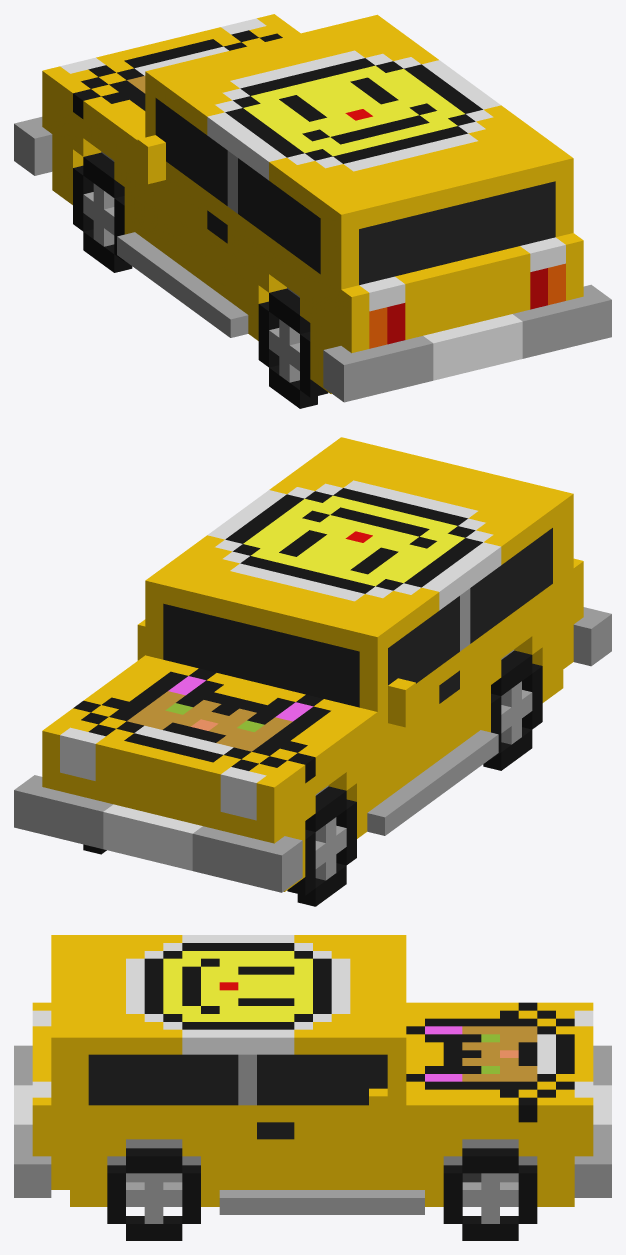
Rendered from car_18.glb.
3 views of the same model, one above another, from view 1: azimuth 30°, elevation 25°; view 2: azimuth 150°, elevation 25°; view 3: azimuth 270°, elevation 25° (orthographic). The views are drawn at different scales.
Visible parts, largest first — view 1: ObjObject; view 2: ObjObject; view 3: ObjObject.
Part boxes in pixels (x1,y1,x2,y2): ObjObject: (14,14,611,408); ObjObject: (14,437,611,906); ObjObject: (14,935,611,1240).
Bounding box in the file's own units: 1.5 × 1.2 × 3.2.
1 material, 1 textured.
